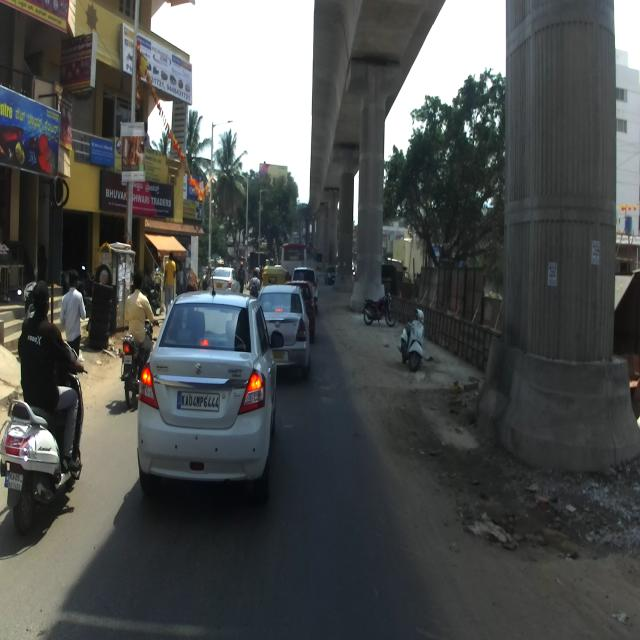car ahead at: (142, 289, 283, 490), (267, 285, 309, 381)
motorcycle ahead at: (5, 386, 58, 549), (117, 269, 142, 401), (399, 300, 431, 373)
pillar ahead at: (524, 0, 635, 491), (355, 87, 390, 302)
